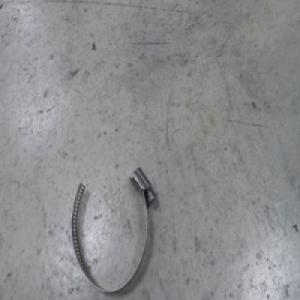AdjustableClamp: (70, 161, 158, 293)
